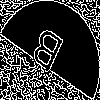B: (25, 25, 66, 82)
